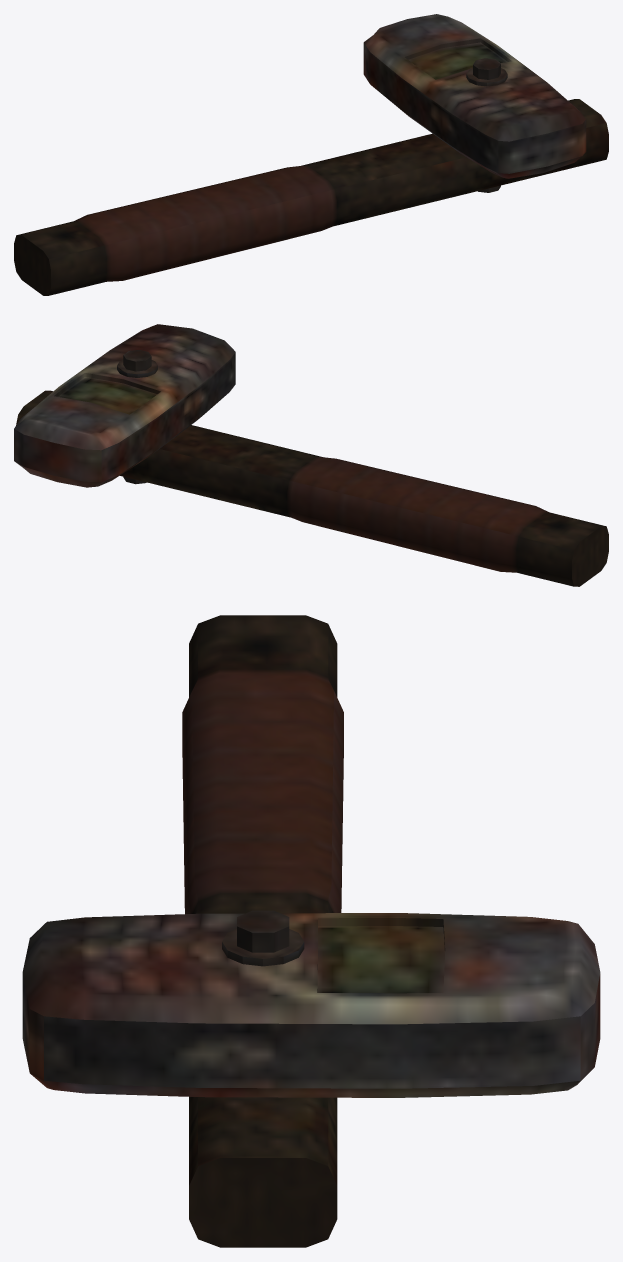
Rendered from cell_phone_hammer_mx_1.obj.
3 renders of one model, top to bottom at view 1: azimuth 30°, elevation 25°; view 2: azimuth 150°, elevation 25°; view 3: azimuth 270°, elevation 25°, orthographic. The views are drawn at different scales.
Parts seen in each view (by area): view 1: cell_phone_hammer_mx_1; view 2: cell_phone_hammer_mx_1; view 3: cell_phone_hammer_mx_1.
Boxes of the visible parts, bbox=[...] form: cell_phone_hammer_mx_1: bbox=[14, 14, 608, 295]; cell_phone_hammer_mx_1: bbox=[14, 324, 608, 586]; cell_phone_hammer_mx_1: bbox=[22, 615, 600, 1247].
Size of the model in its own units: 0.468 by 0.0986 by 0.2106.
